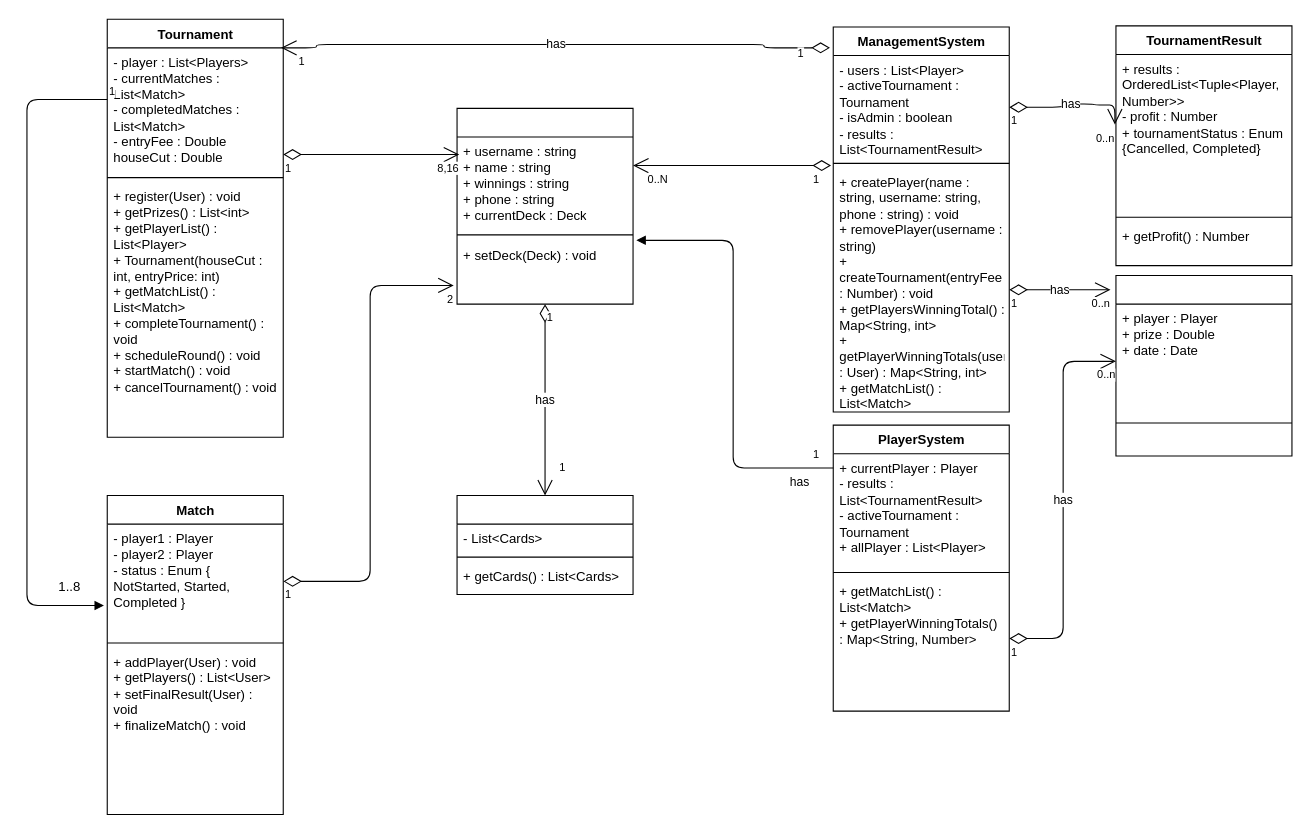
The diagram is 1311 pixels wide and 837 high, and some of its shapes have lost their labels. The shapes that lost their labels are listed below. From the top down, each one's box as (x1, y1, x2, y2) in pixels, then its label:
(456, 107, 633, 304): Player
(1115, 274, 1292, 456): PlayerResult
(456, 494, 633, 595): Deck
